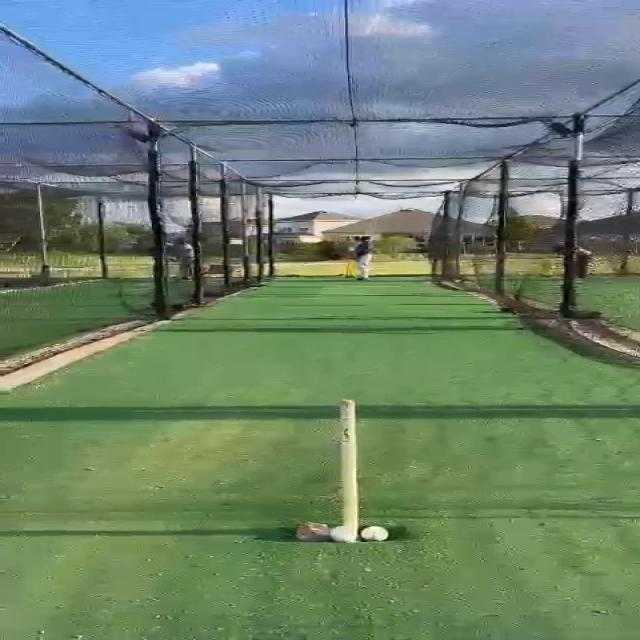batsman: (348, 236, 374, 281)
